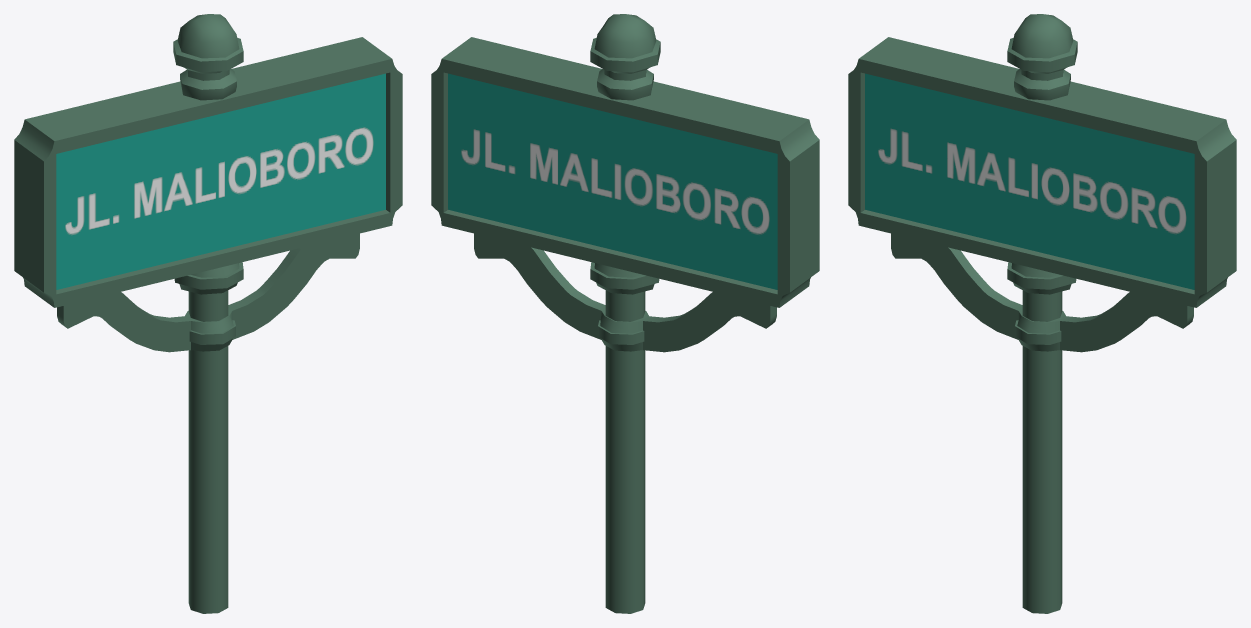
The model's file is Plang_DesaMijen.fbx.
3 views of the same model, side by side, from view 1: azimuth 30°, elevation 25°; view 2: azimuth 150°, elevation 25°; view 3: azimuth 330°, elevation 25° (orthographic).
Parts seen in each view (by area): view 1: Plang_Malioboro; view 2: Plang_Malioboro; view 3: Plang_Malioboro.
Boxes of the visible parts, box(x1,y1,x2,y2) form: Plang_Malioboro: box(14, 14, 402, 613); Plang_Malioboro: box(431, 14, 819, 613); Plang_Malioboro: box(848, 14, 1236, 613).
Bounding box in the file's own units: 98.27 × 155 × 17.81.
Materials: 1 (1 with a texture image).
